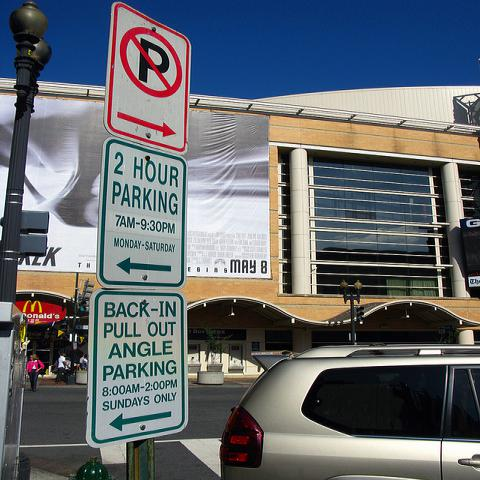car: (219, 344, 479, 480)
